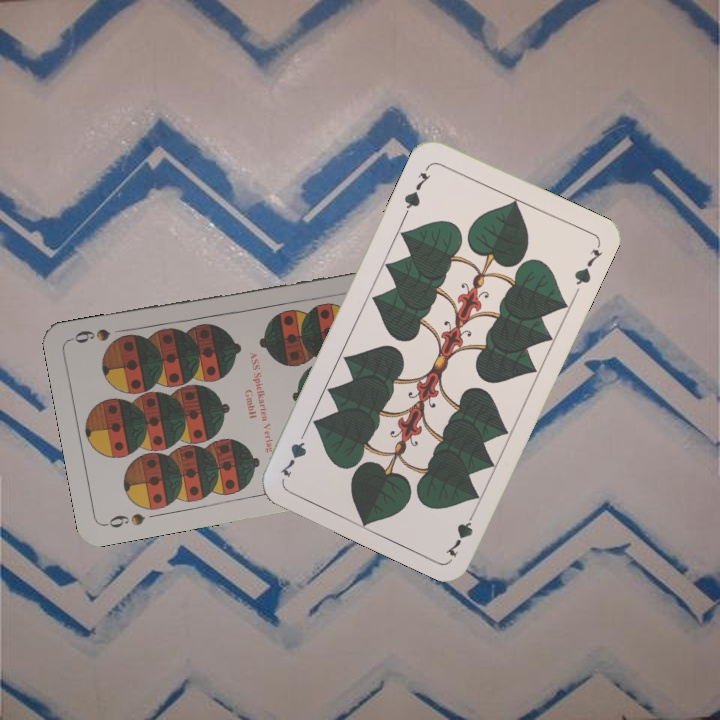G7: (441, 503, 479, 560), (400, 162, 434, 217)
S9: (101, 509, 148, 531)
